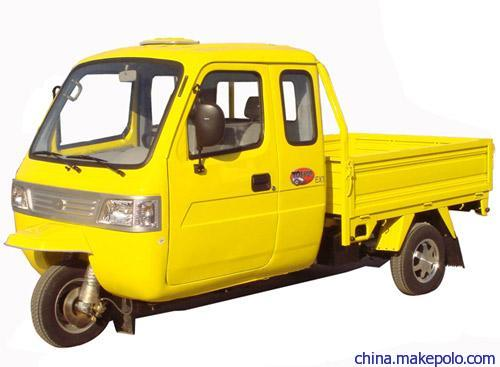tricycle: (15, 31, 488, 340)
